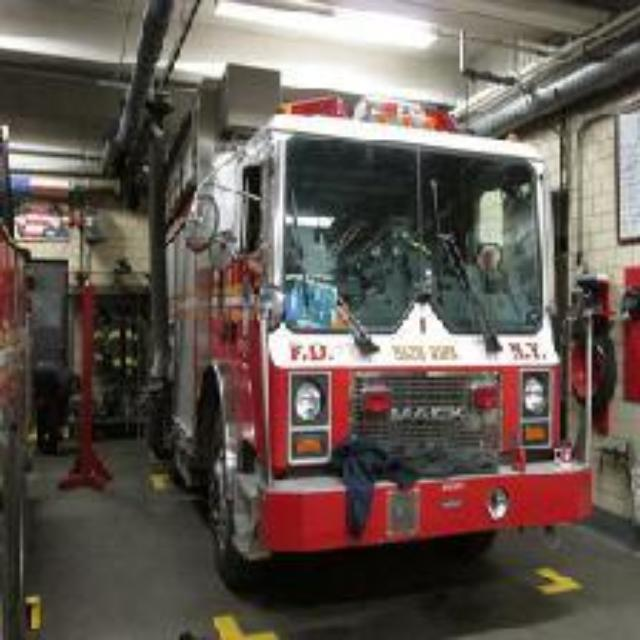emergency: (114, 110, 572, 550)
